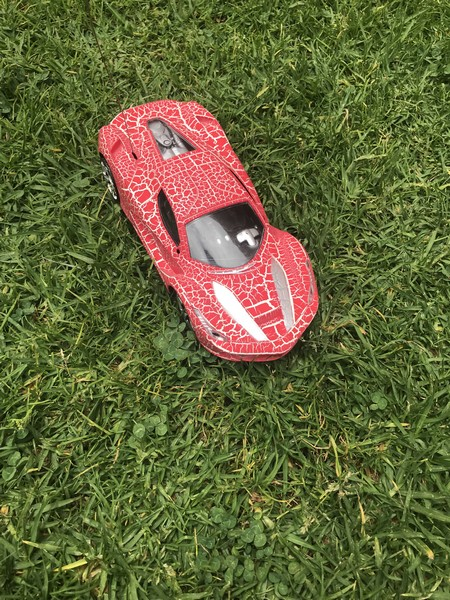RC: (93, 96, 323, 364)
